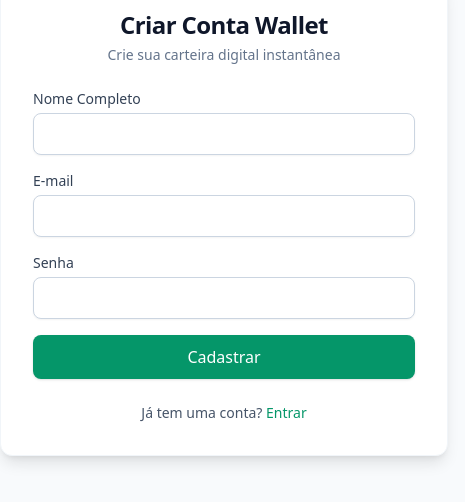
RegisterForm › displays validation error for password shorter than 12 chars
Type "Alef Salu" into the field labelled "Nome Completo" at (224, 134), box top-left (33, 113), bottom-right (415, 155)
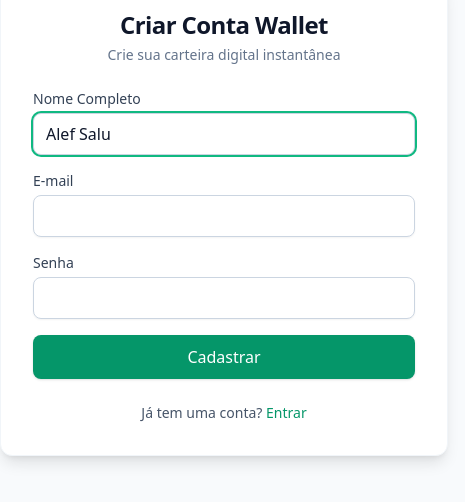
Type "alef@example.com" into the field labelled "E-mail" at (224, 216), box top-left (33, 195), bottom-right (415, 237)
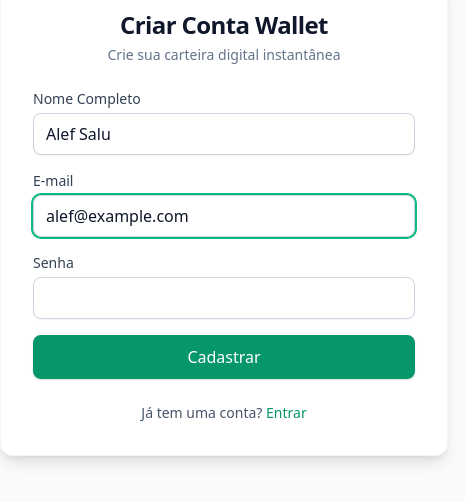
Type "123456" into the password field labelled "Senha" at (224, 298), box top-left (33, 277), bottom-right (415, 319)
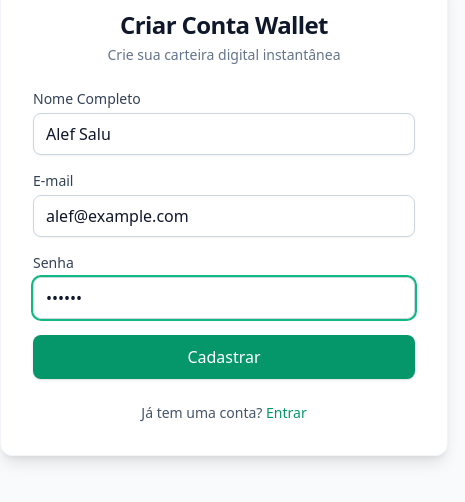
Click the button "Cadastrar" at (224, 357), box top-left (33, 335), bottom-right (415, 379)
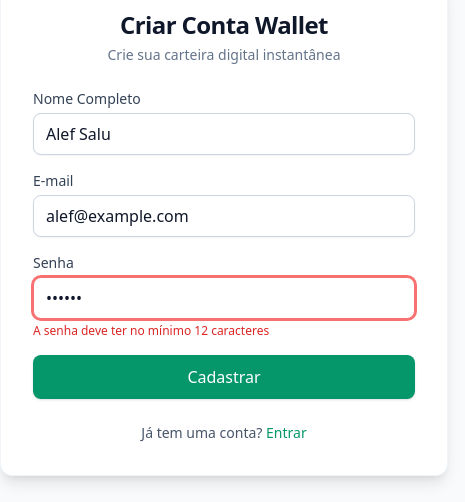
Result: the text "A senha deve ter no mínimo 12 caracteres" is shown at top-left (33, 322), bottom-right (269, 339)
